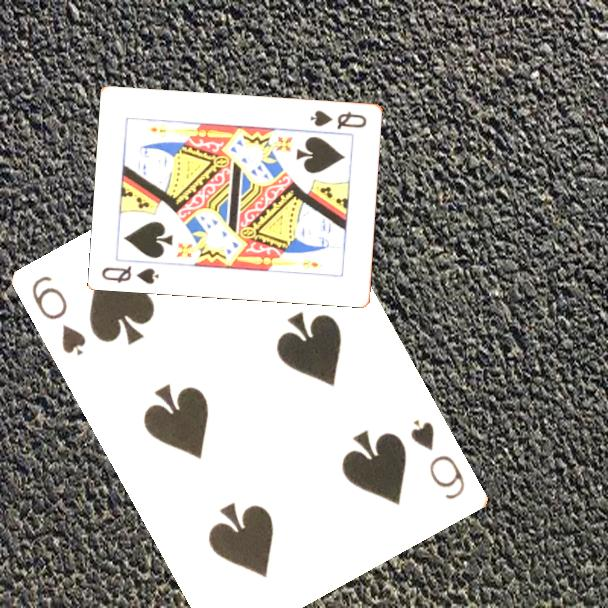s06: (407, 416, 469, 503), (28, 272, 90, 359)
s12: (98, 262, 162, 287), (307, 107, 370, 132)
